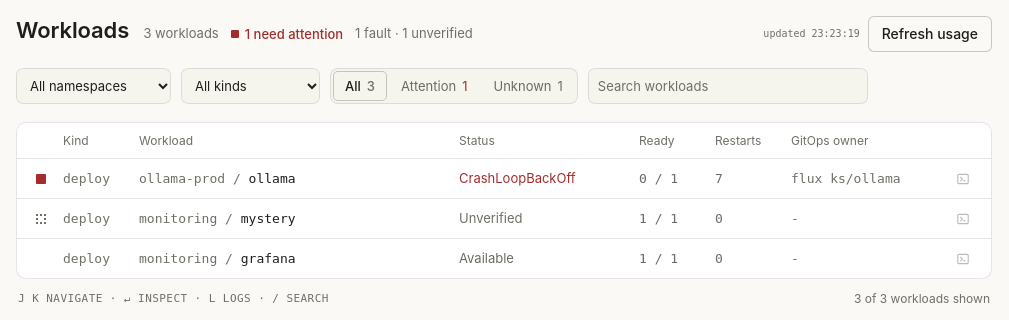
Test case: WorkloadsView health model (1b rework) › offers an unknown filter while a verdict is unknown, and it isolates those rows
The width and height of the screenshot is (1009, 320).
Click the button "Unknown 1" at (528, 86), box [482,71,575,101]
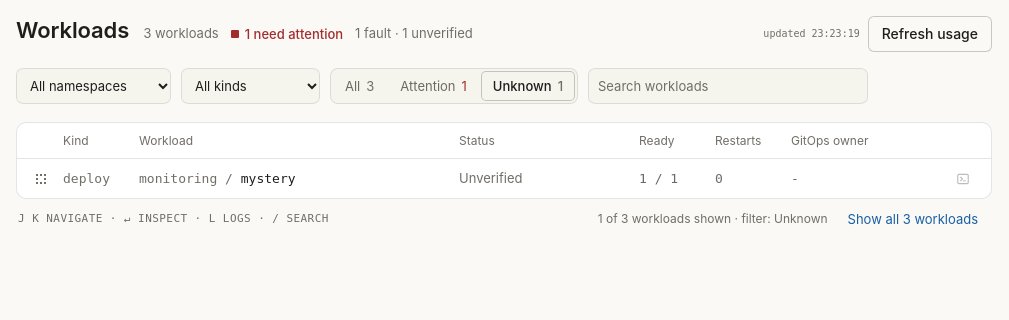
Check: the text "mystery" is shown, box [241,170,296,186]
Check: the button "grafana" is gone
Check: the button "ollama" is gone
